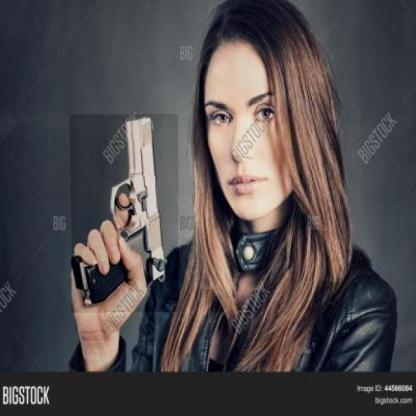handgun: (71, 114, 179, 312)
